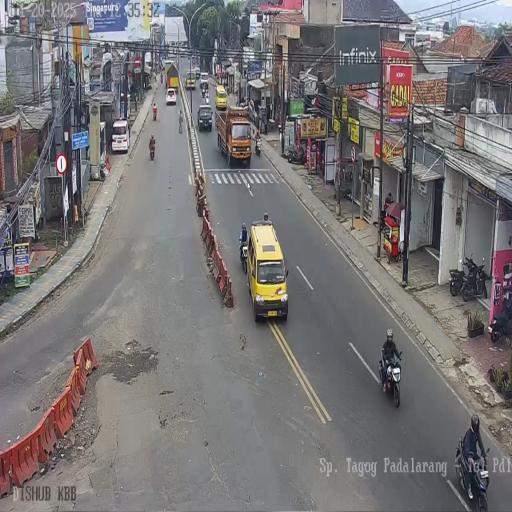car: (248, 218, 290, 320), (111, 118, 130, 153), (197, 104, 213, 132), (215, 84, 227, 110), (166, 87, 176, 105), (194, 66, 200, 80)
motorcycle: (455, 437, 490, 511), (461, 254, 489, 302), (379, 350, 402, 408), (490, 293, 512, 343), (448, 267, 466, 297), (286, 144, 306, 164), (239, 238, 248, 274), (340, 184, 353, 201), (254, 134, 262, 156), (149, 142, 155, 160), (201, 82, 206, 98), (152, 107, 157, 120), (277, 122, 282, 134), (154, 73, 157, 84), (160, 73, 163, 83)
truck: (216, 105, 252, 168), (162, 58, 176, 88), (186, 68, 196, 90)
